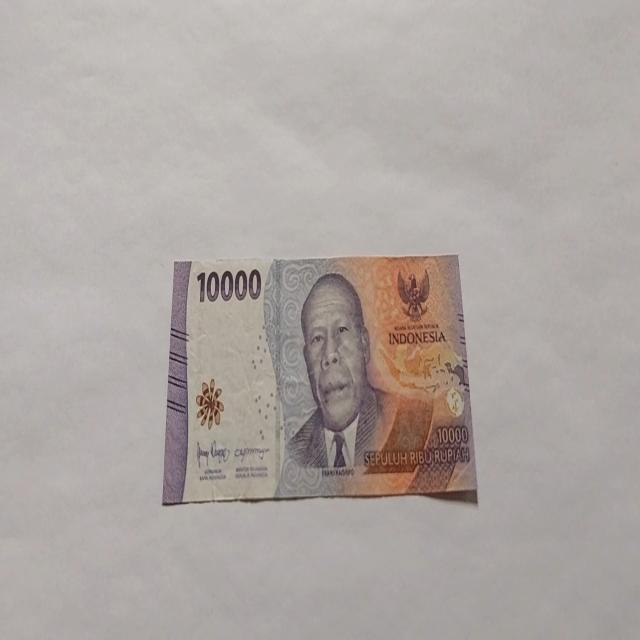sepuluh ribu rupiah: (162, 252, 478, 506)
